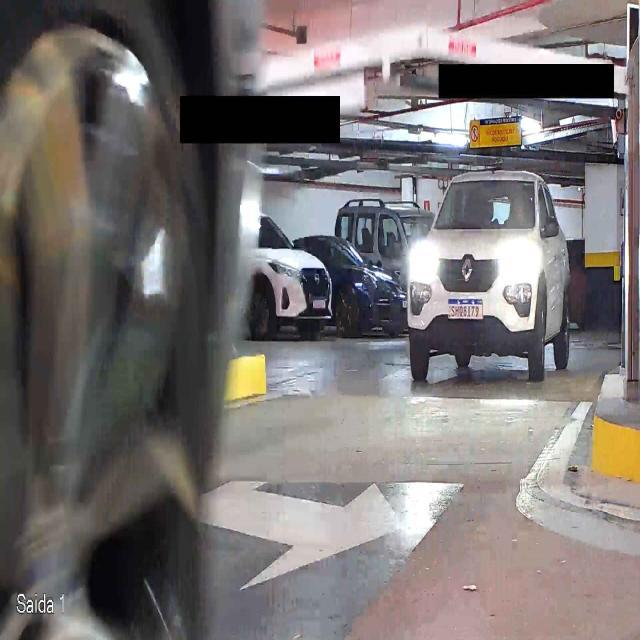mercosul_plate: (447, 298, 484, 321)
